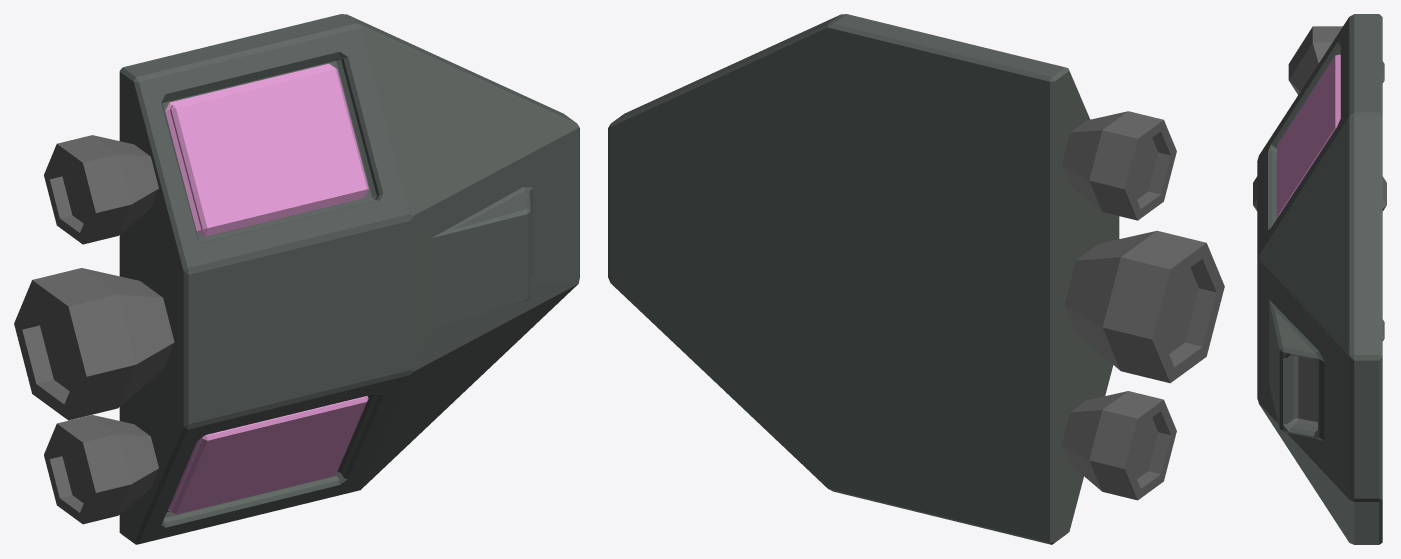
File: SpaceShip.glb
The picture shows the model from 3 angles, left to right: view 1: azimuth 30°, elevation 25°; view 2: azimuth 150°, elevation 25°; view 3: azimuth 270°, elevation 25°; orthographic projection. The views are drawn at different scales.
Parts seen in each view (by area): view 1: Plane, Plane.001, Circle, Circle.001, Circle.002; view 2: Plane, Circle, Circle.001, Circle.002; view 3: Plane, Plane.001, Circle.001, Plane.002, Circle.
Boxes of the visible parts, <box> form: Plane: <box>119,14,579,544</box>; Plane.001: <box>165,63,368,514</box>; Circle: <box>14,268,174,420</box>; Circle.001: <box>44,135,158,244</box>; Circle.002: <box>44,415,158,524</box>; Plane: <box>608,14,1119,544</box>; Circle: <box>1064,230,1224,383</box>; Circle.001: <box>1061,111,1176,220</box>; Circle.002: <box>1061,391,1176,500</box>; Plane: <box>1257,14,1382,544</box>; Plane.001: <box>1277,54,1340,217</box>; Circle.001: <box>1288,26,1384,94</box>; Plane.002: <box>1293,356,1317,426</box>; Circle: <box>1253,176,1386,211</box>.
Size of the model in its own units: 2.45 by 2 by 0.5626.
